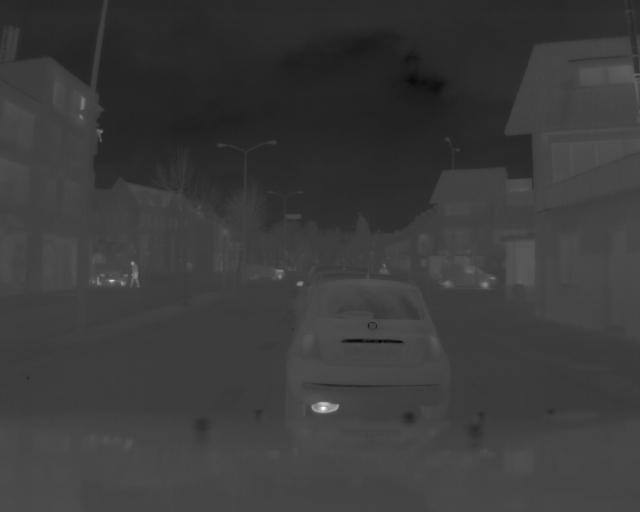car: (285, 275, 459, 417), (440, 261, 503, 294)
person: (129, 257, 139, 291)
